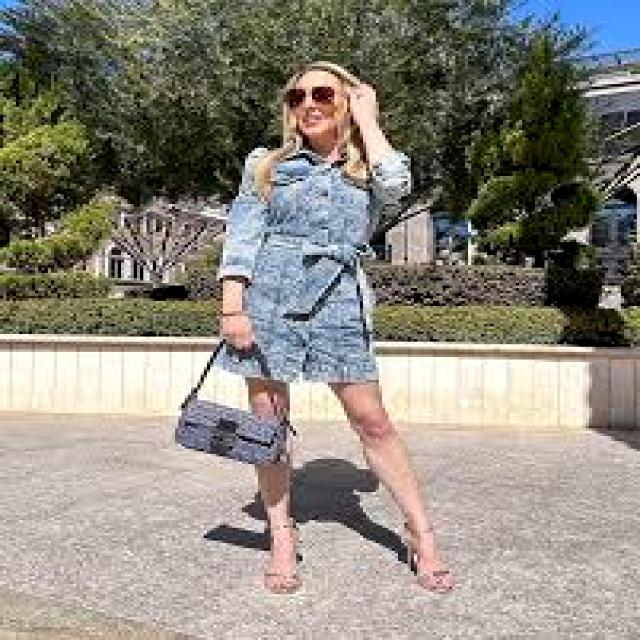dress: (214, 148, 410, 382)
